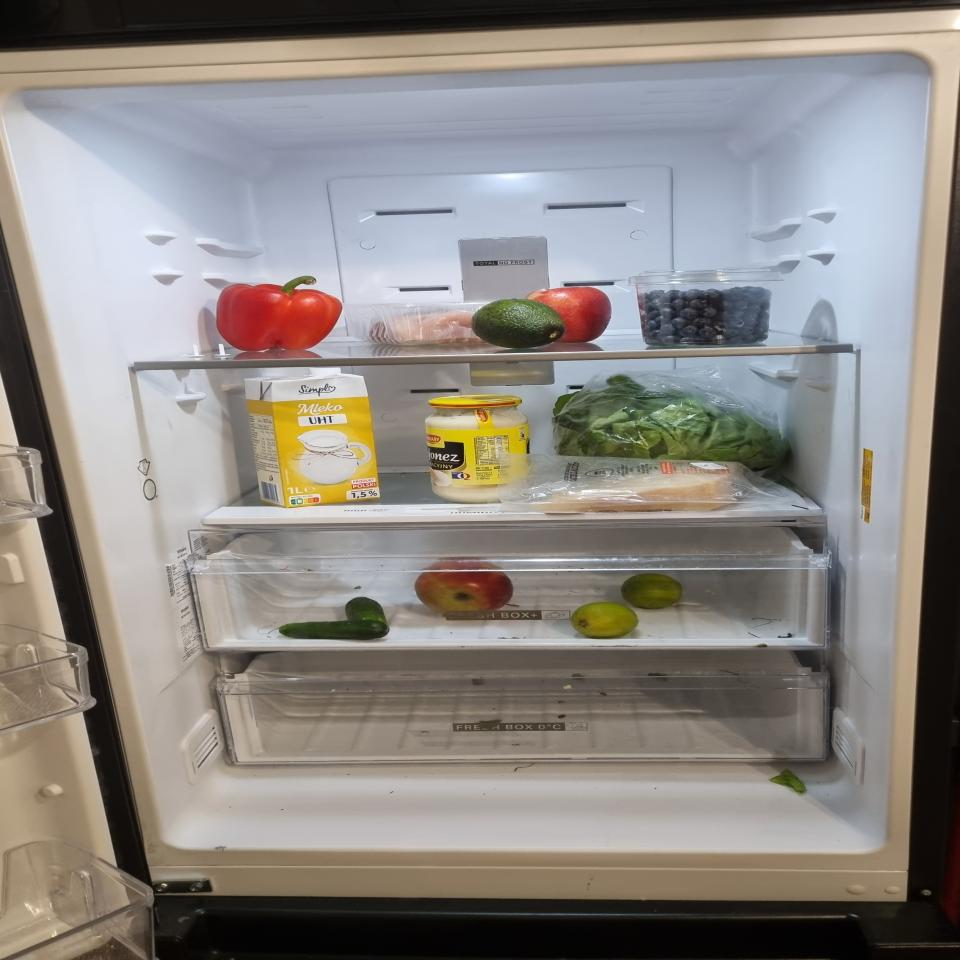Aguacate: (470, 298, 565, 349)
Carne pollo: (344, 301, 492, 345)
Leche: (244, 368, 381, 508)
Lechuga/Endivia: (552, 374, 784, 472)
Manzana: (414, 557, 514, 615), (527, 287, 612, 343)
Pepino: (279, 597, 390, 640)
Queso: (533, 464, 735, 512)
